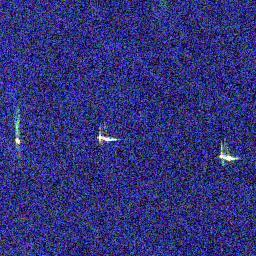Ship: (215, 149, 240, 165), (95, 131, 121, 143), (11, 134, 27, 149)
